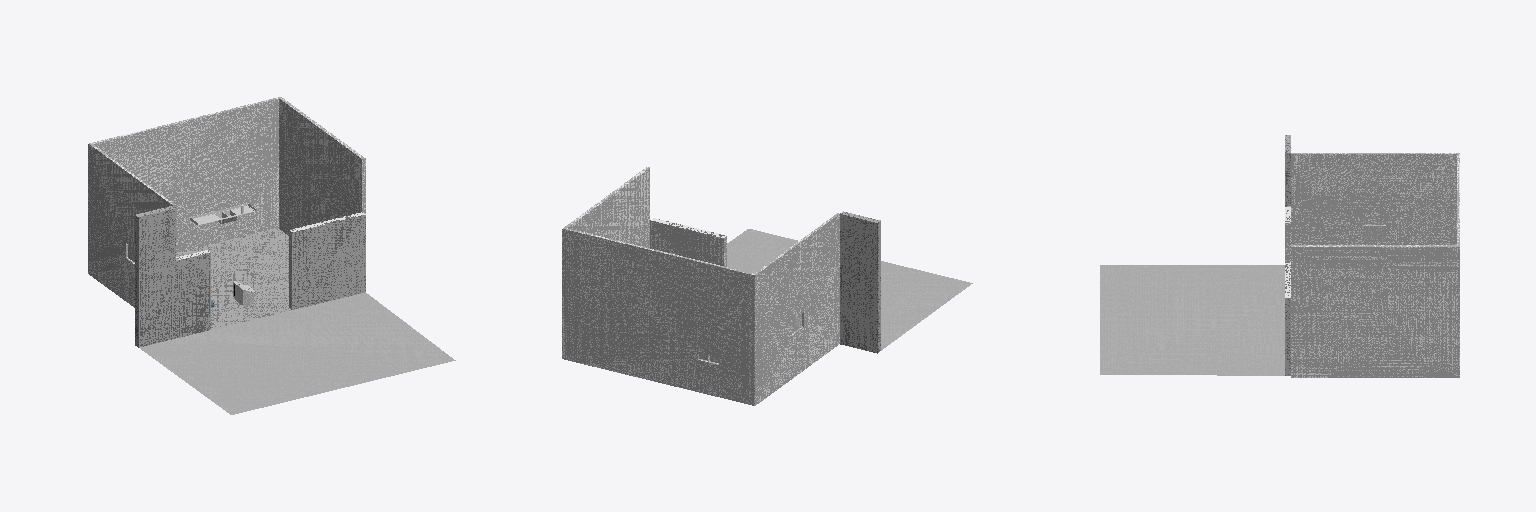
3 renders of one model, left to right at view 1: azimuth 30°, elevation 25°; view 2: azimuth 150°, elevation 25°; view 3: azimuth 270°, elevation 25°, orthographic.
Parts seen in each view (by area): view 1: Mesh60 Model, Mesh41 Group2 Stainless_Steel_Sink1 Group1 Model; view 2: Mesh60 Model; view 3: Mesh60 Model.
Part boxes in pixels (left/top/right/bottom): Mesh60 Model: left=88, top=97, right=455, bottom=414; Mesh41 Group2 Stainless_Steel_Sink1 Group1 Model: left=190, top=203, right=255, bottom=225; Mesh60 Model: left=562, top=167, right=972, bottom=405; Mesh60 Model: left=1100, top=135, right=1459, bottom=377.
Bounding box in the file's own units: 7763 × 4200 × 10521.
11 materials, 2 textured.